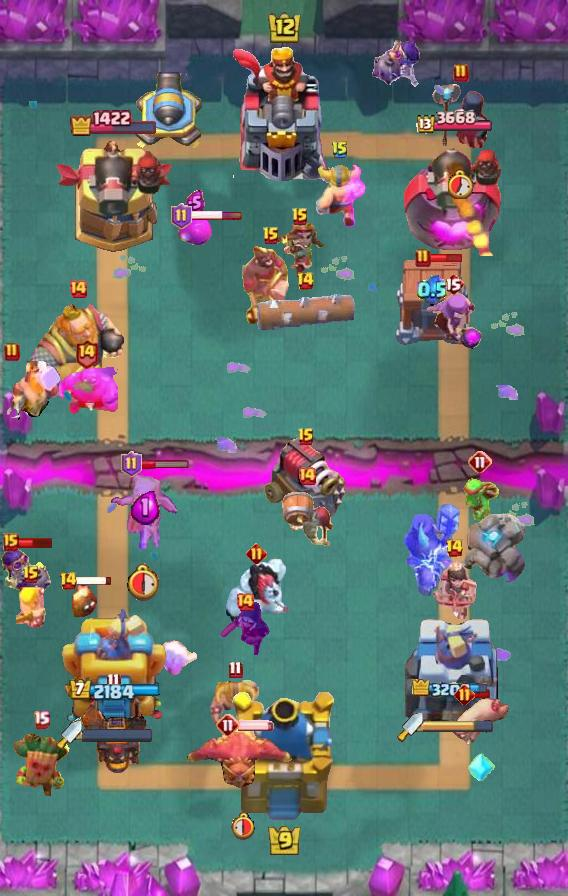bandit: (219, 601, 271, 657)
bar: (189, 210, 243, 221), (139, 459, 190, 470), (17, 536, 54, 549), (237, 719, 275, 731), (429, 252, 464, 264), (76, 575, 113, 586), (473, 688, 492, 700)
bar-level: (74, 338, 99, 369), (216, 713, 240, 737), (468, 450, 492, 474), (121, 451, 142, 477), (171, 203, 192, 229), (442, 272, 464, 296), (454, 684, 475, 705), (246, 543, 267, 564), (235, 592, 255, 612), (297, 466, 317, 486), (68, 279, 88, 299), (59, 571, 78, 591), (445, 538, 464, 558), (296, 271, 315, 291), (22, 565, 40, 585), (297, 427, 315, 447), (262, 226, 280, 246), (291, 207, 309, 227), (331, 140, 349, 160), (33, 710, 50, 729), (4, 342, 20, 362), (415, 248, 431, 268), (453, 63, 469, 83), (3, 533, 19, 551), (106, 672, 121, 691), (228, 660, 243, 679)
barbarian: (16, 585, 47, 629)
bomber-evolution: (0, 546, 52, 600), (368, 39, 422, 89)
cannoneer-tower: (53, 138, 175, 256), (403, 138, 504, 256)
clock: (127, 562, 163, 601), (448, 169, 474, 199), (229, 811, 255, 840)
dagger-duchess-tower: (62, 601, 166, 731), (405, 611, 501, 731)
dagger-duchess-tower-bar: (82, 728, 154, 742), (423, 720, 493, 734)
dart-goblin: (12, 733, 70, 797)
elite-barbarian: (315, 162, 366, 228), (210, 676, 260, 728)
elixir: (131, 489, 160, 525), (417, 275, 447, 305), (185, 190, 205, 215)
elixir-golem-mid: (54, 366, 118, 416)
elixir-golem-small: (177, 217, 213, 247)
fire-spirit: (70, 585, 98, 619)
golemite: (459, 514, 529, 582)
hog: (446, 695, 512, 749)
ice-spirit-evolution: (151, 639, 201, 677)
ice-spirit-evolution-symbol: (467, 750, 495, 784)
king-tower: (227, 692, 341, 826), (230, 45, 338, 181)
little-prince: (273, 221, 327, 277)
lumberjack: (0, 361, 62, 427)
mother-witch: (421, 291, 485, 353)
night-witch: (431, 81, 491, 151)
princess: (429, 561, 479, 619)
spear-goblin: (458, 476, 502, 524)
the-log: (254, 294, 356, 330)
tower-bar: (69, 109, 159, 137), (68, 679, 160, 703), (414, 111, 492, 136), (412, 679, 494, 701)
wall-breaker: (279, 490, 335, 548)
